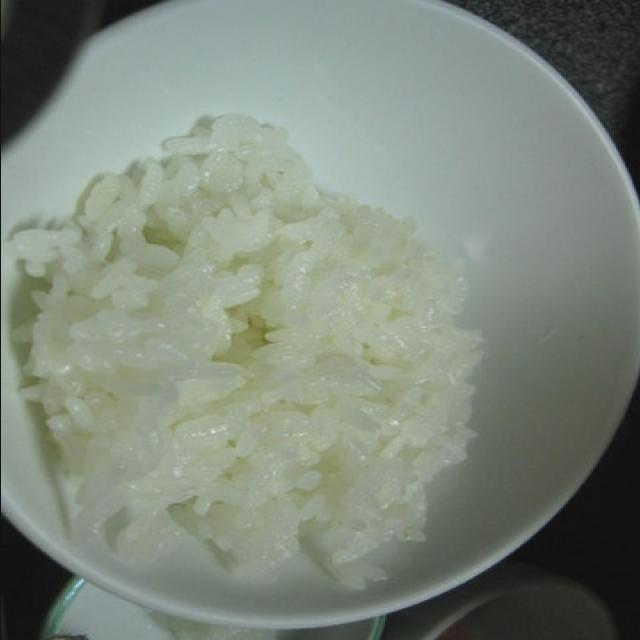nasi: (0, 113, 480, 592)
